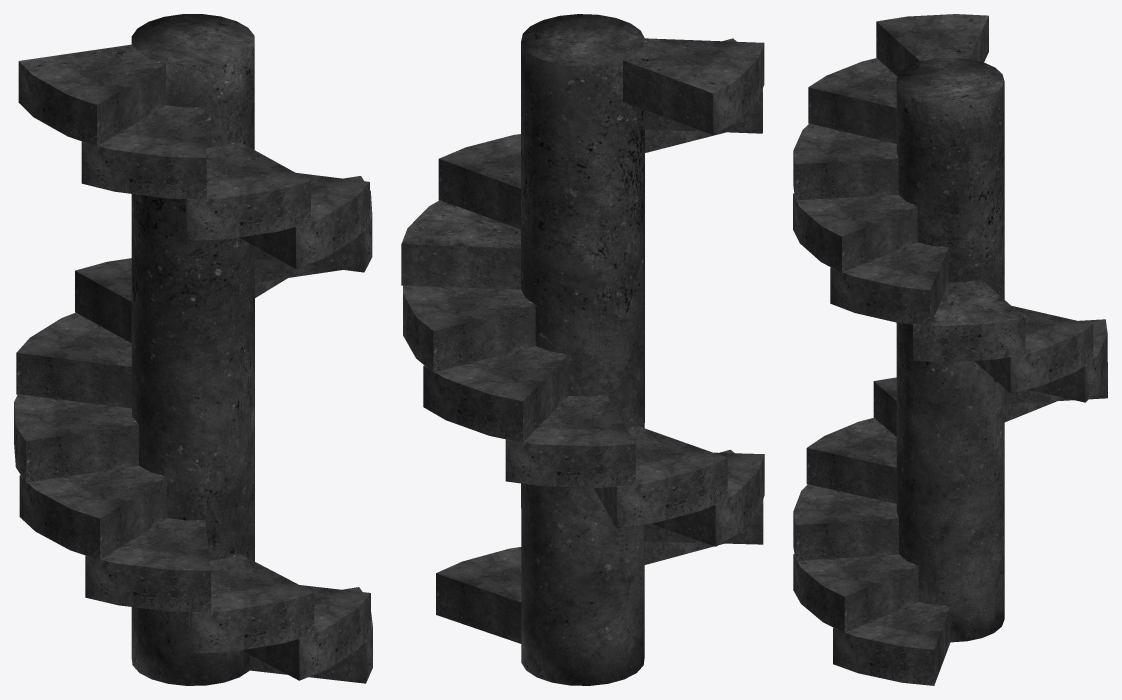
File: Stairs.fbx
3 renders of one model, left to right at view 1: azimuth 30°, elevation 25°; view 2: azimuth 150°, elevation 25°; view 3: azimuth 270°, elevation 25°, orthographic. The views are drawn at different scales.
Visible parts, largest first — view 1: Stair, Pillar; view 2: Stair, Pillar; view 3: Stair, Pillar.
Boxes of the visible parts, <box> form: Stair: <box>14,44,372,683</box>; Pillar: <box>131,14,254,685</box>; Stair: <box>401,38,764,643</box>; Pillar: <box>521,14,644,685</box>; Stair: <box>793,14,1107,685</box>; Pillar: <box>896,57,1004,642</box>.
Bounding box in the file's own units: 0.0262 × 0.0496 × 0.0262.
Materials: 1 (1 with a texture image).
